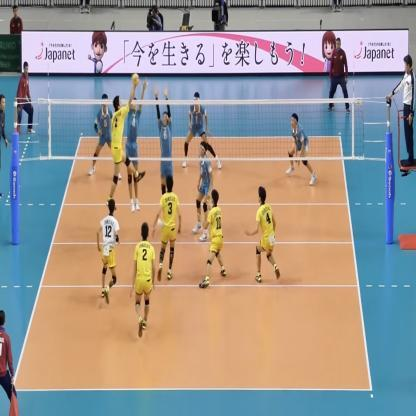spike: (106, 72, 146, 211)
